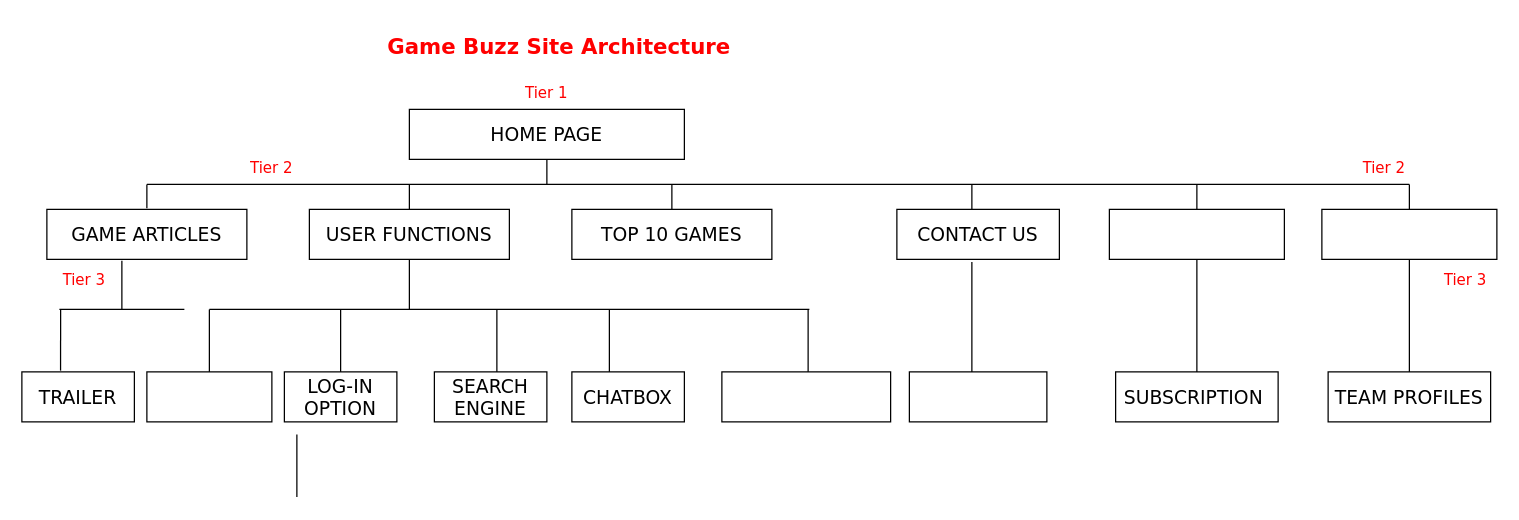
The diagram is 1519 pixels wide and 520 high, and some of its shapes have lost their labels. Here are the shapes that lost their labels. From the top down, the box of each, then its label:
(1108, 208, 1284, 259): GAME NEWS
(1321, 208, 1497, 259): ABOUT
(146, 371, 272, 422): COMMENTS
(721, 371, 891, 422): SOCIAL MEDIA ACCOUNTS
(908, 371, 1047, 422): SUGGESTION BOX
